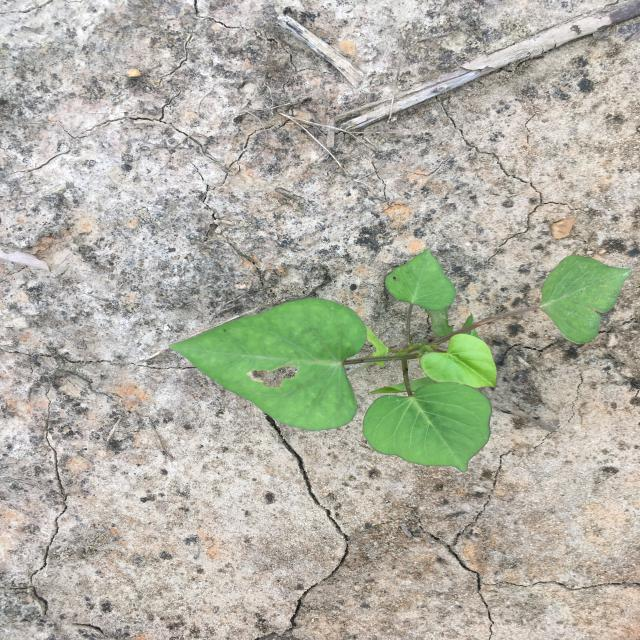MorningGlory: (168, 248, 633, 472)
